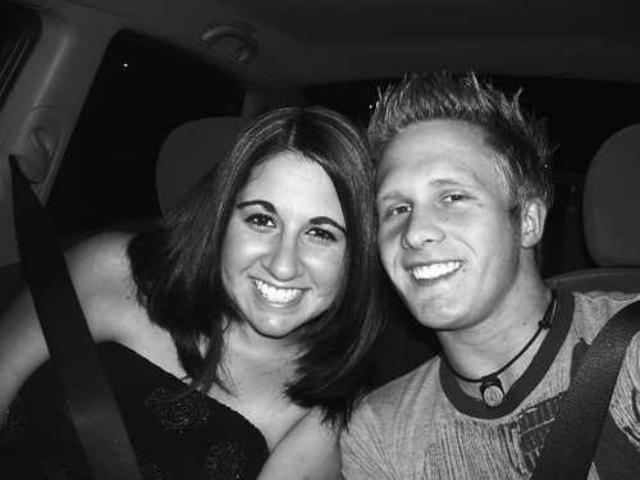SafeDriving: (296, 214, 344, 250), (430, 178, 480, 212), (236, 200, 282, 236), (379, 190, 419, 228)
Seatbelt: (4, 124, 148, 480), (526, 292, 640, 480)
